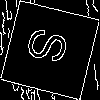S: (25, 25, 78, 69)
